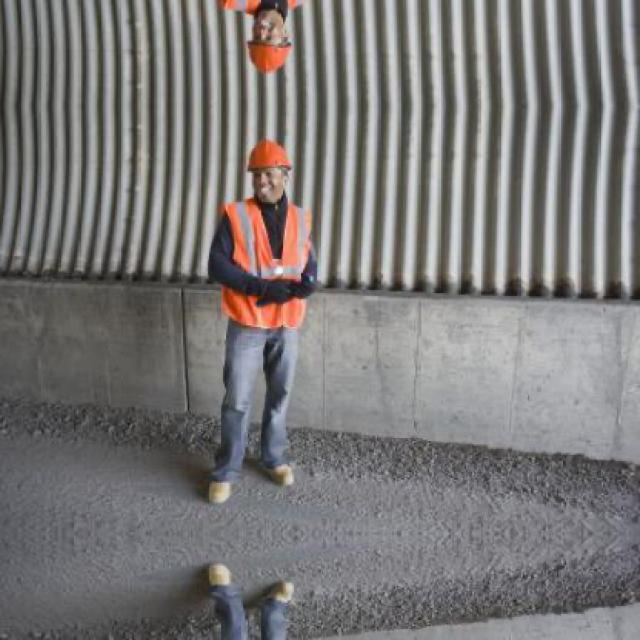Reflective-Jacket: (200, 196, 325, 342)
Safety-Helmet: (234, 131, 301, 184), (198, 558, 238, 592)
